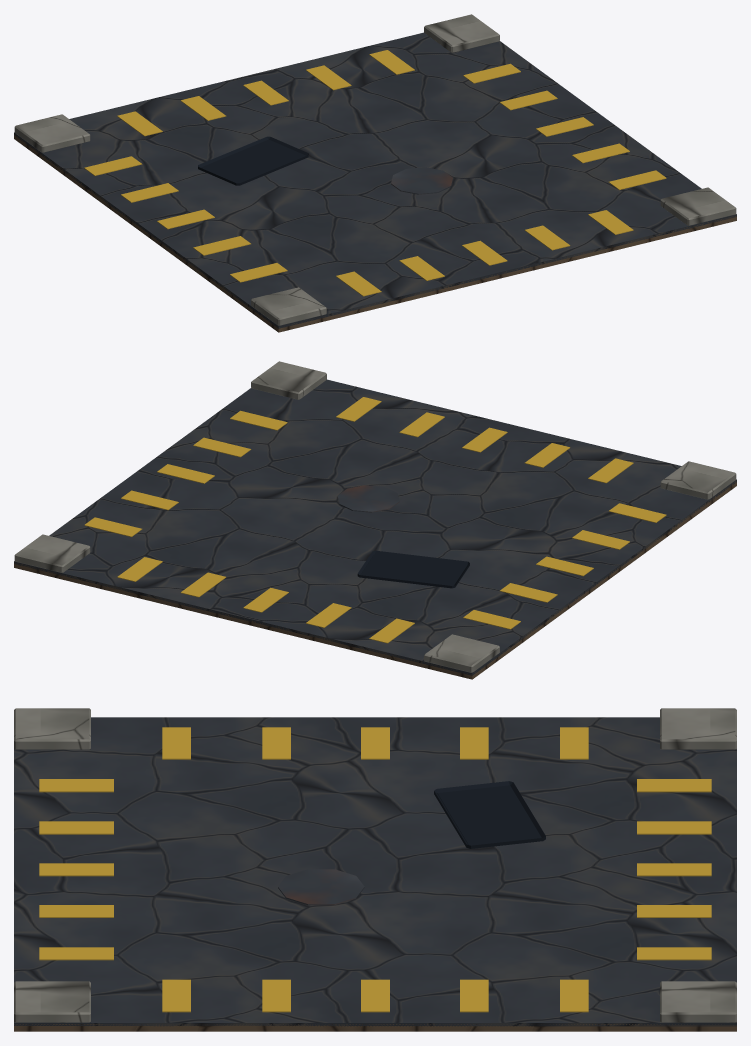
File: env_road_intersection.glb
The picture shows the model from 3 angles, top to bottom: view 1: azimuth 30°, elevation 25°; view 2: azimuth 150°, elevation 25°; view 3: azimuth 270°, elevation 25°; orthographic projection. The views are drawn at different scales.
Visible parts, largest first — view 1: Env_road_intersection; view 2: Env_road_intersection; view 3: Env_road_intersection.
Part boxes in pixels (x1=…): Env_road_intersection: x1=14, y1=14, x2=736, y2=332; Env_road_intersection: x1=14, y1=361, x2=736, y2=679; Env_road_intersection: x1=14, y1=708, x2=736, y2=1031.
Size of the model in its own units: 6 by 0.17 by 6.
6 materials, 4 textured.
